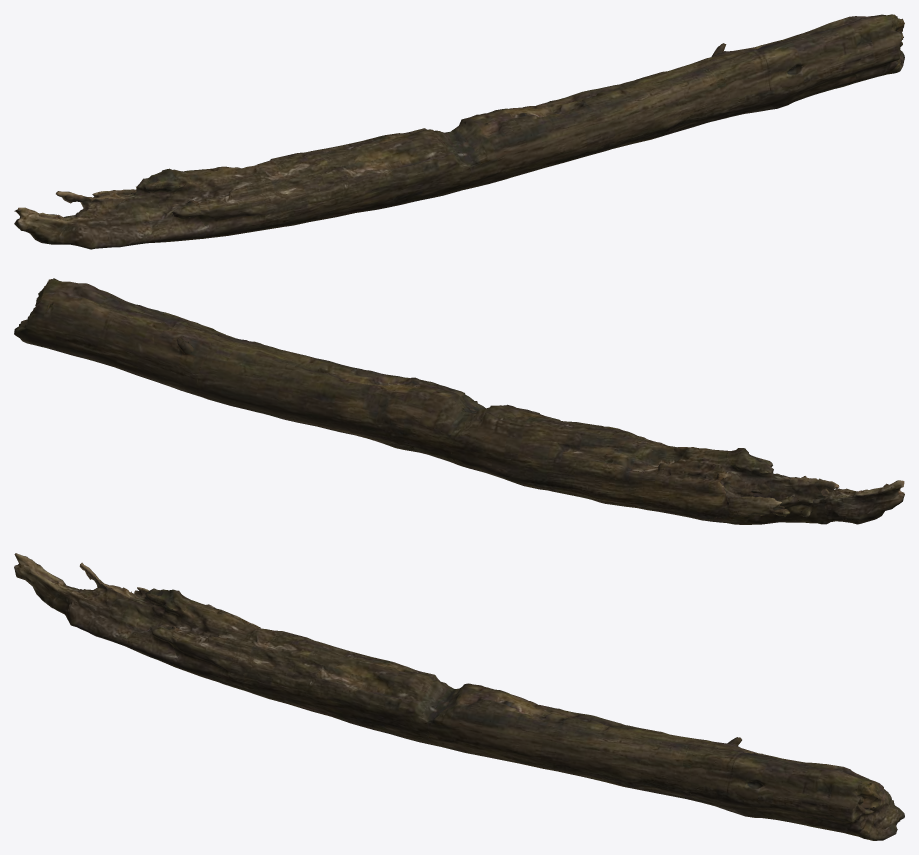
File: ph_dead_tree_trunk.glb
3 views of the same model, one above another, from view 1: azimuth 30°, elevation 25°; view 2: azimuth 150°, elevation 25°; view 3: azimuth 330°, elevation 25° (orthographic).
Visible parts, largest first — view 1: dead_tree_trunk; view 2: dead_tree_trunk; view 3: dead_tree_trunk.
Part boxes in pixels (box(x1,y1,x2,y2)): dead_tree_trunk: box(14, 14, 904, 249); dead_tree_trunk: box(14, 278, 904, 524); dead_tree_trunk: box(14, 553, 904, 840).
Size of the model in its own units: 3.05 by 0.2895 by 0.2769.
1 material, 1 textured.
